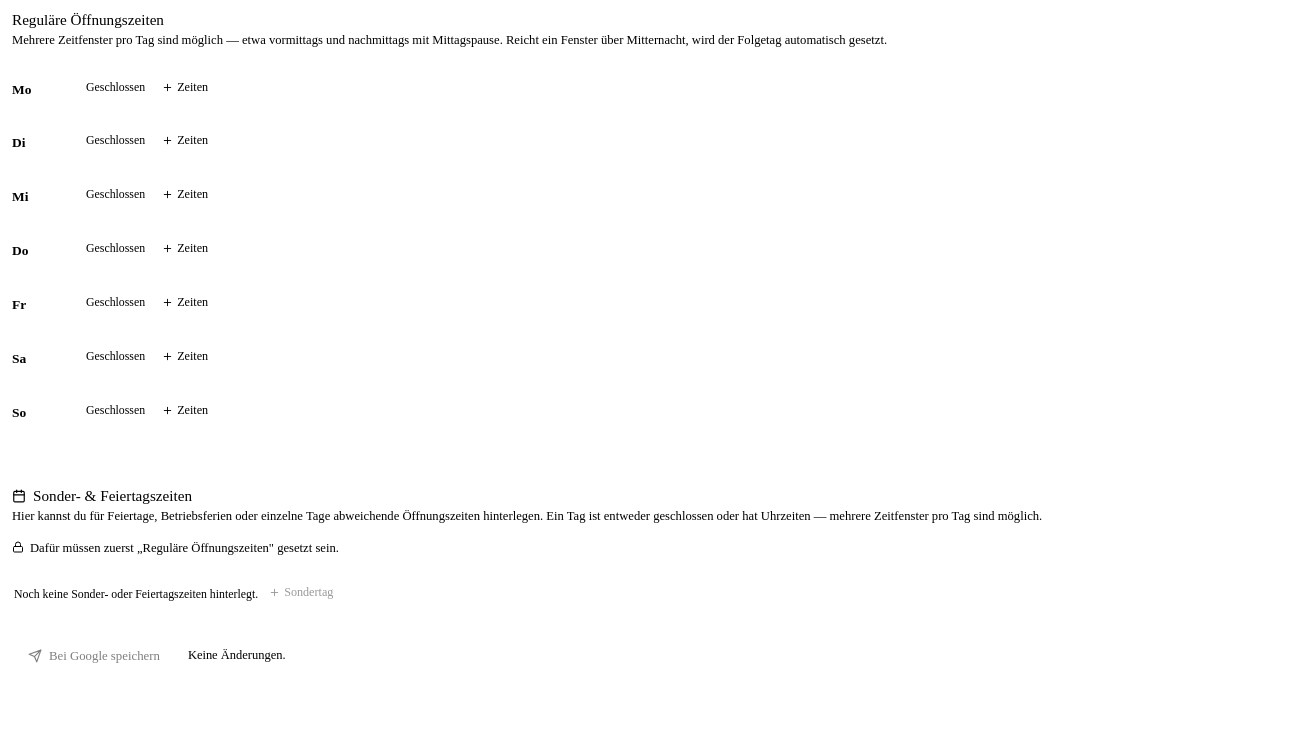
Test: Kein Feststecken › kommt von leeren Öffnungszeiten aus zu festen Zeiten
The image size is (1292, 732).
Click the button "Zeiten" in the row of "Mo". click: (185, 87)
box: left=153, top=74, right=217, bottom=100
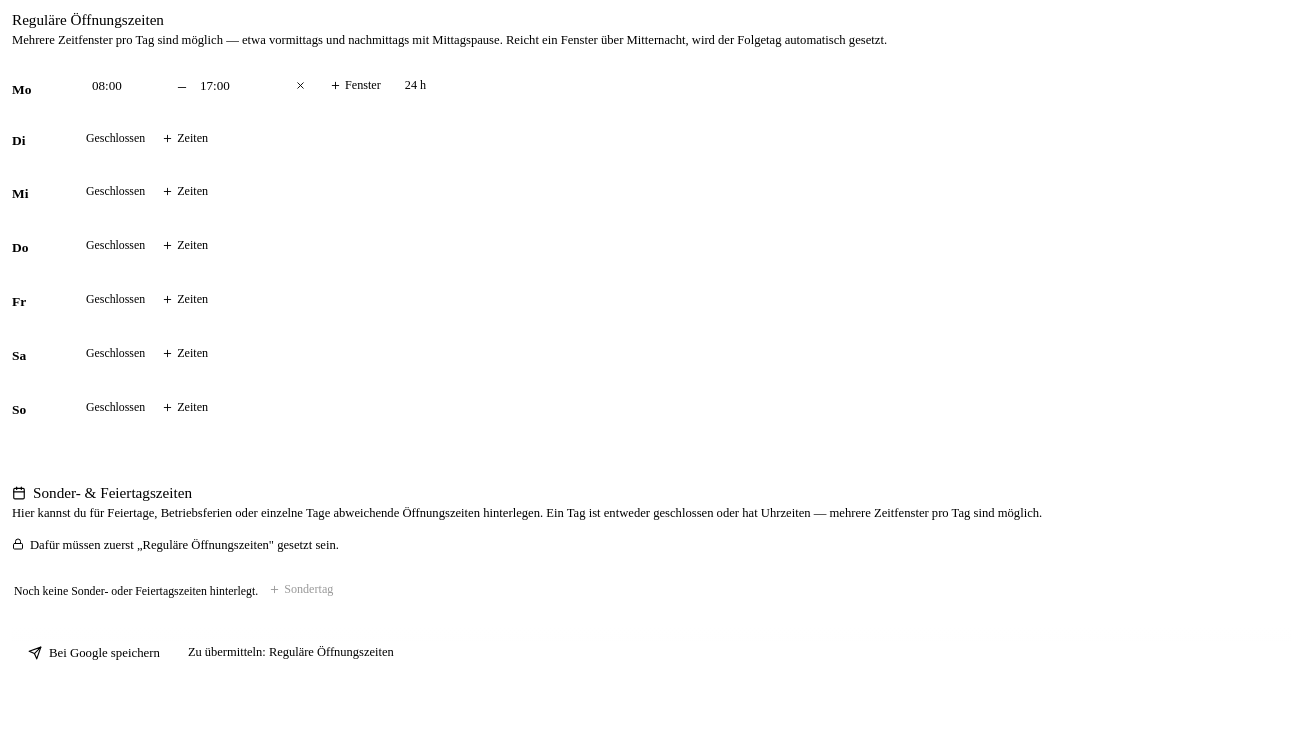
Result: the field named "Montag Öffnung 1" is shown at left=84, top=72, right=172, bottom=100
